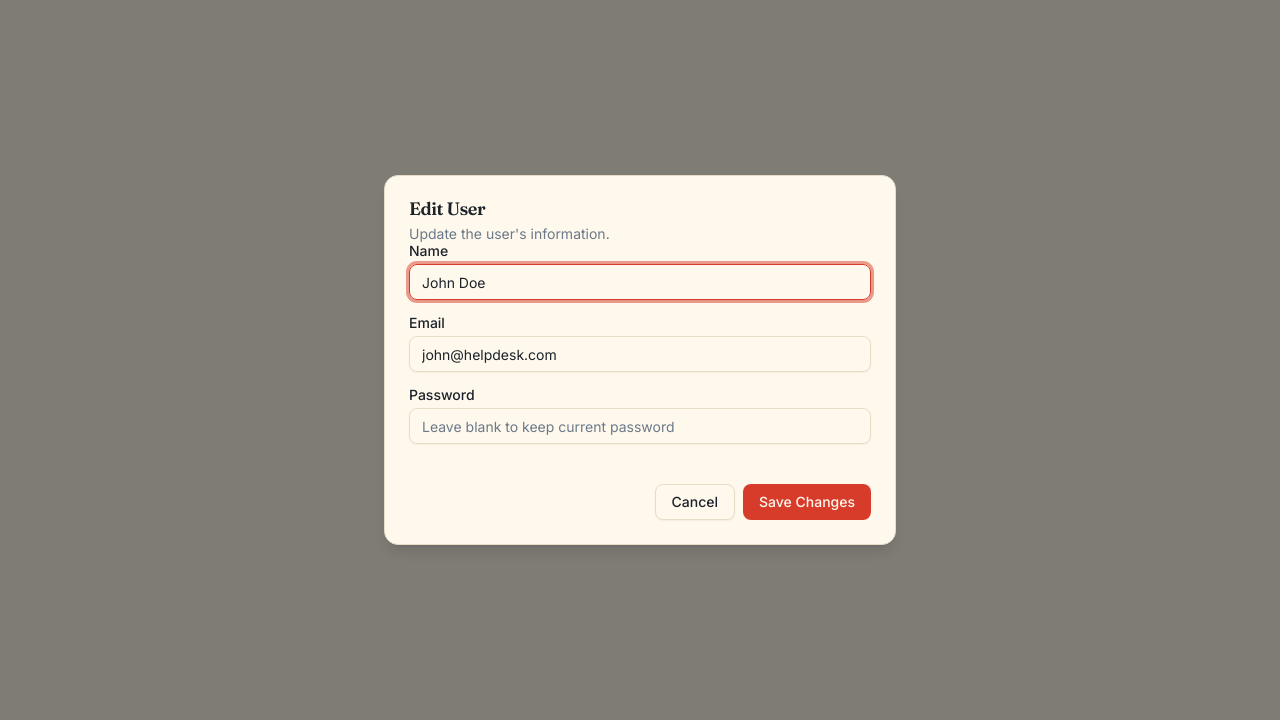
it: EditUserDialog › shows validation error for short password when provided
The width and height of the screenshot is (1280, 720).
In the password field labelled "Password": (640, 426) x1=409 y1=408 x2=871 y2=444, type "Ab1!"
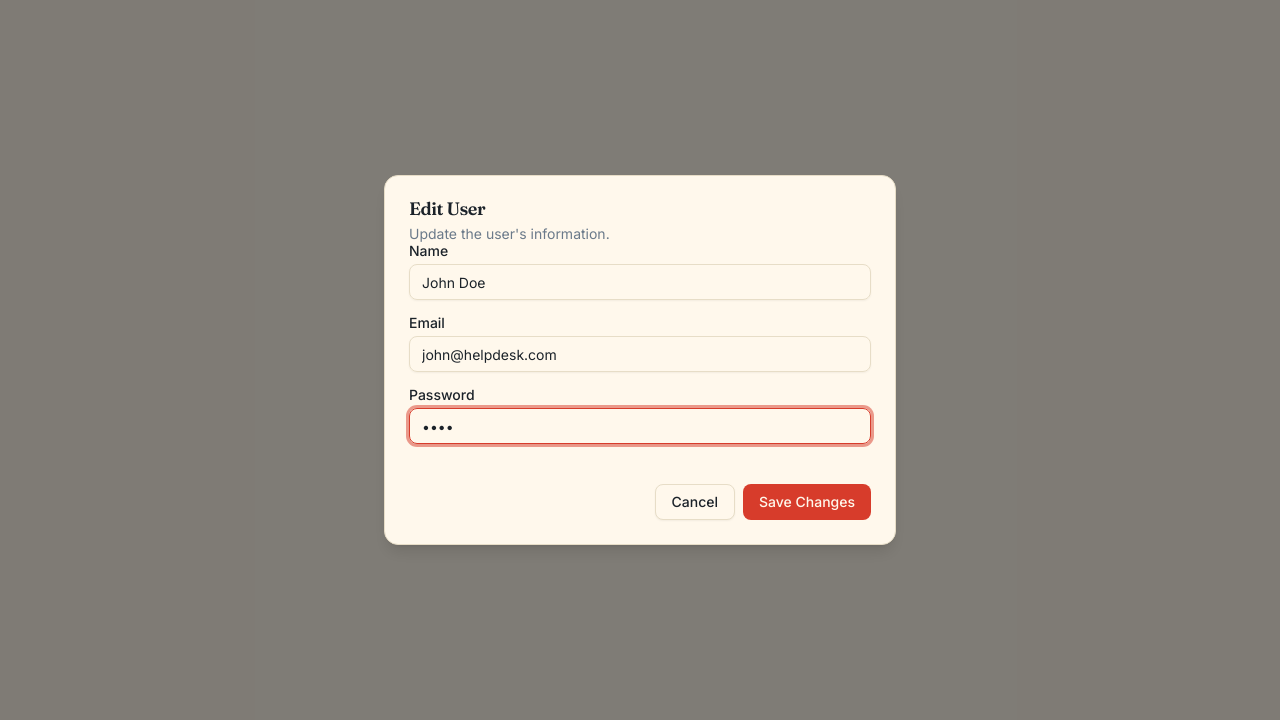
Press Tab
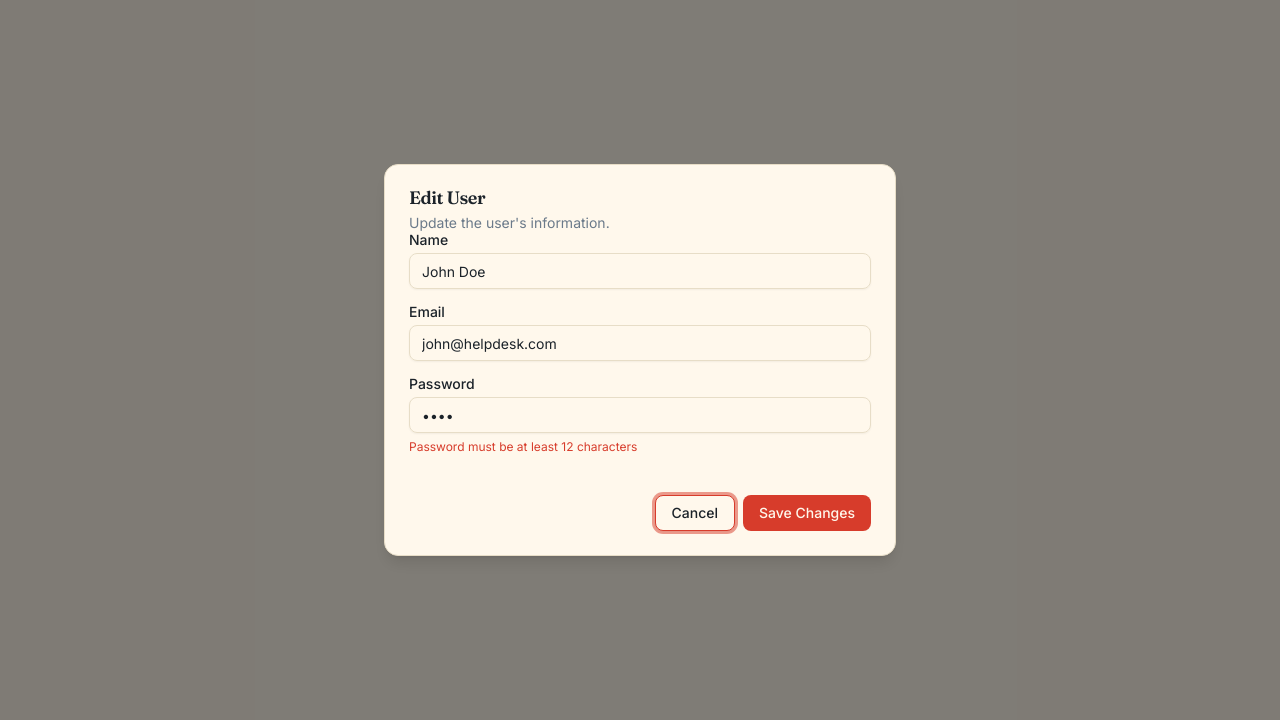
Expected: the text "Password must be at least 12 characters" is shown, x1=409 y1=439 x2=637 y2=454
